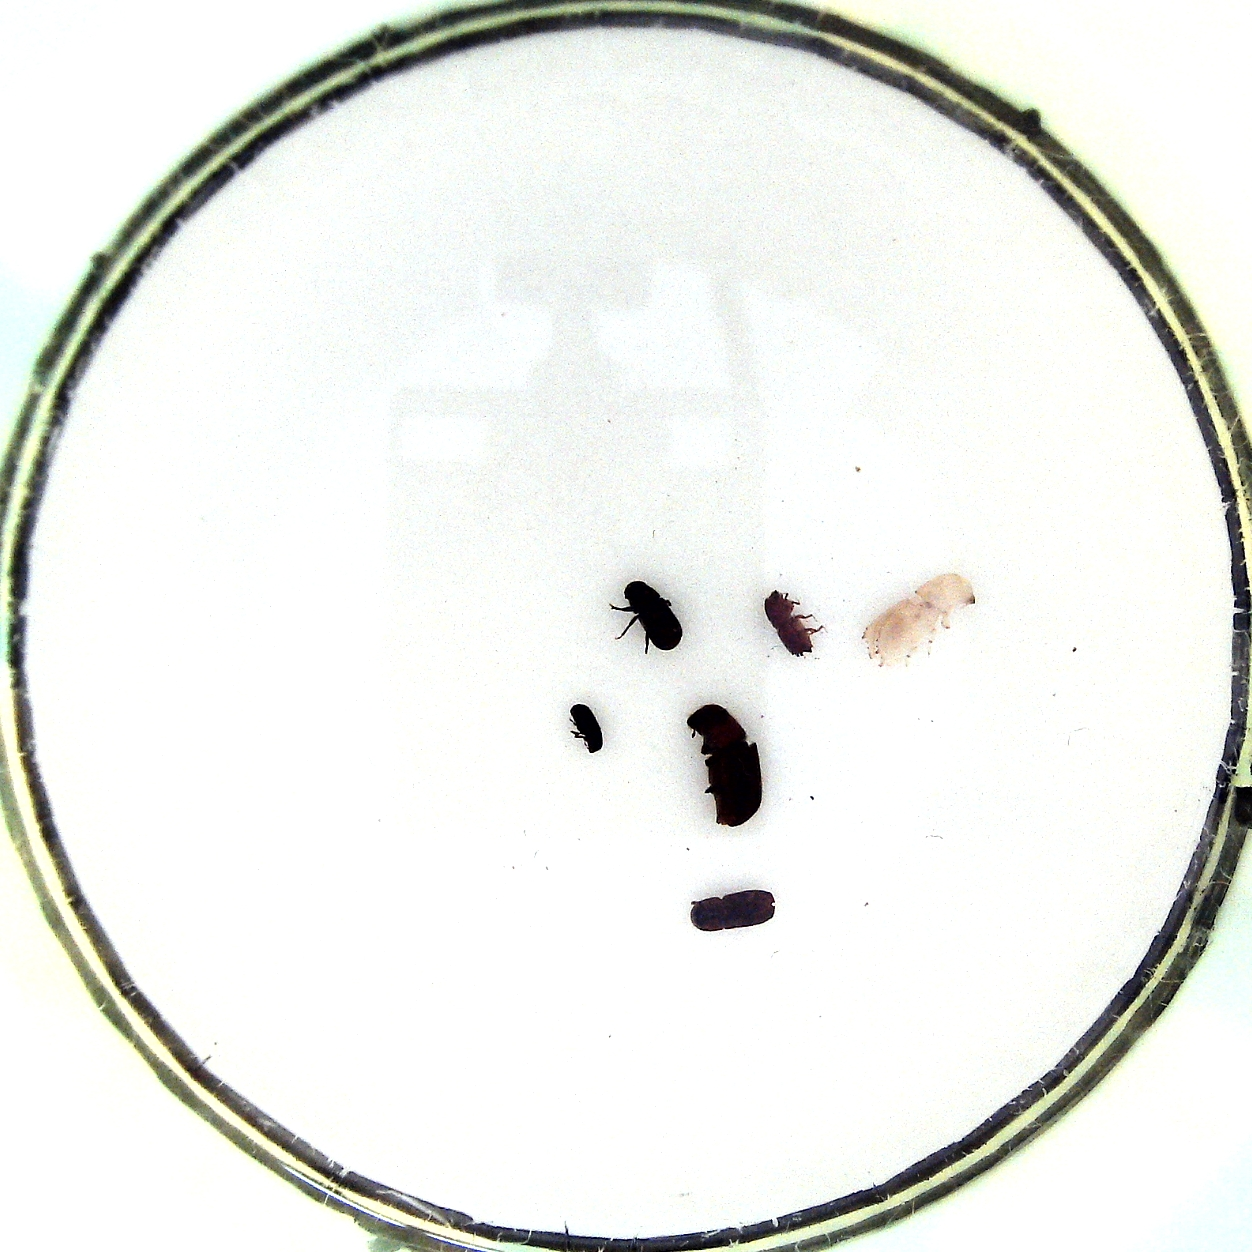Boerner: (856, 572, 983, 670)
Leconte: (689, 698, 765, 829)
Linnaeus: (684, 885, 775, 936)
acuminatus: (758, 585, 827, 656)
armandi: (607, 577, 688, 657)
coleoptera: (569, 692, 607, 756)
